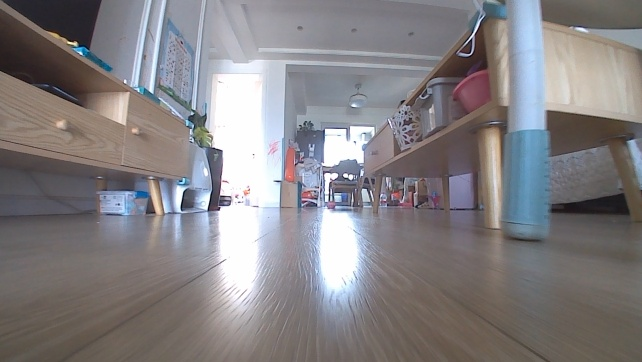TV_stand1: (0, 0, 197, 219)
sofa1: (549, 136, 641, 216)
tea_table1: (355, 11, 641, 231)
wire: (21, 168, 99, 215), (455, 0, 487, 59)
